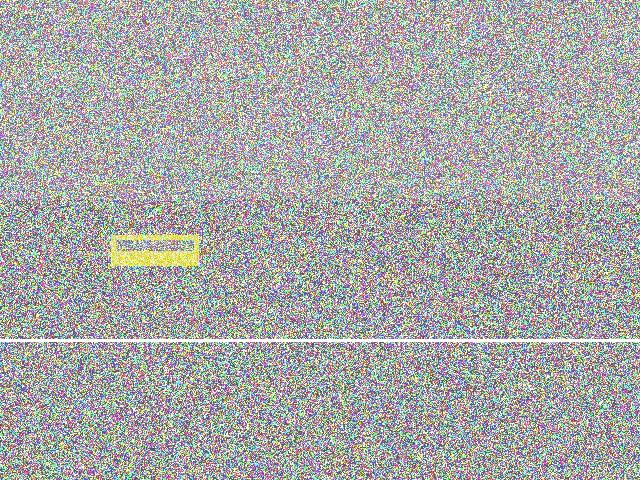bus: (215, 235, 340, 311)
car: (34, 208, 158, 279)
